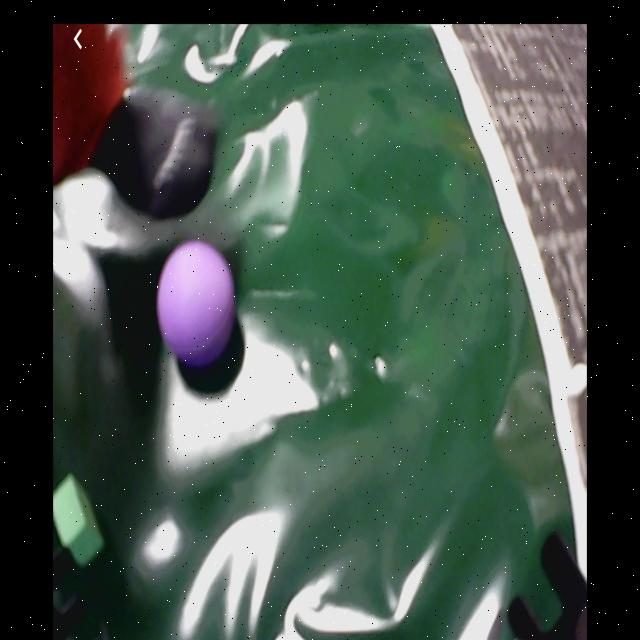ball: (158, 241, 234, 361)
